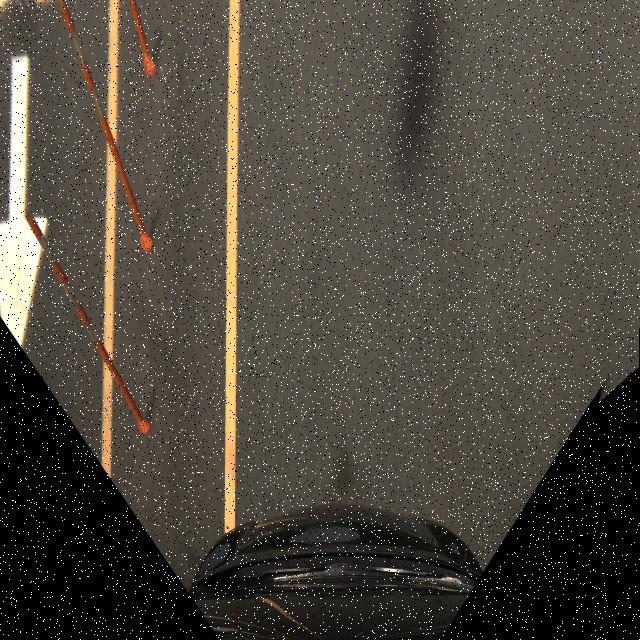forward: (564, 260, 640, 639)
